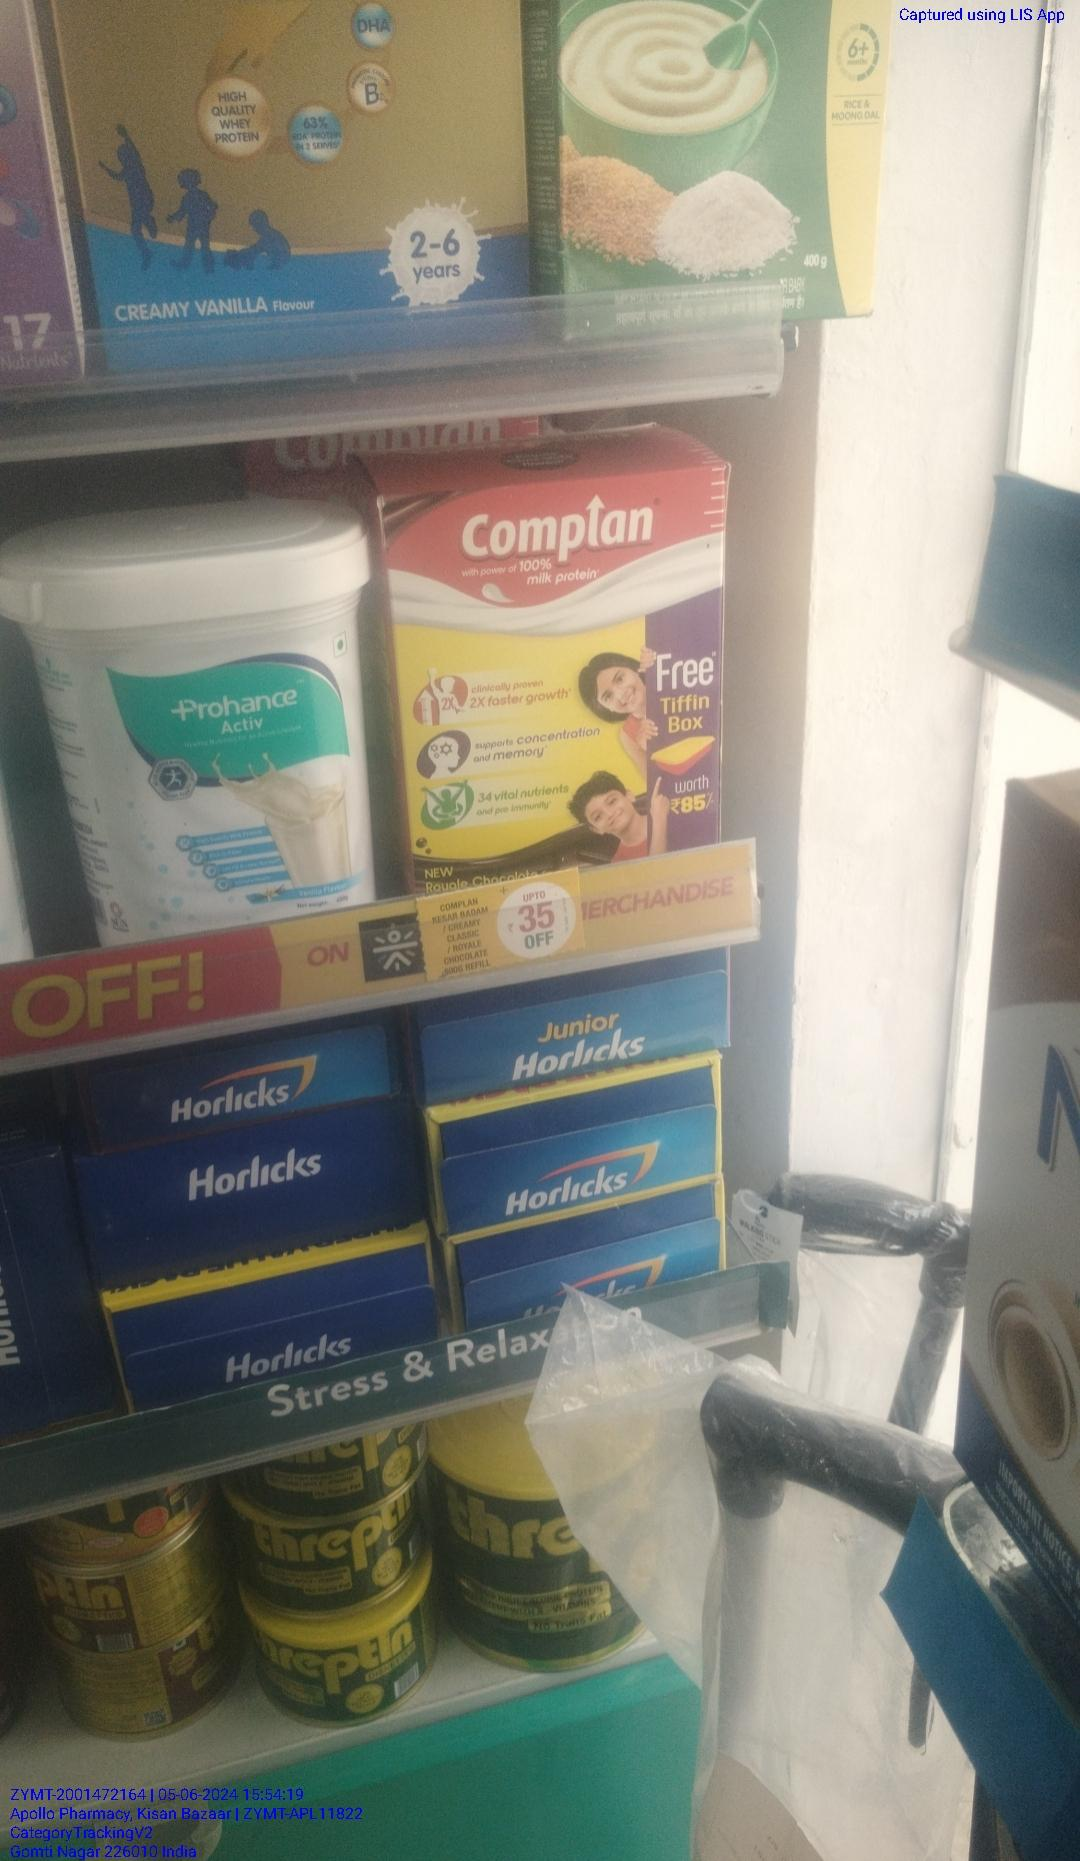COMPLAN_CHOCOLATE_500_GMS_PACK: (395, 468, 737, 900)
